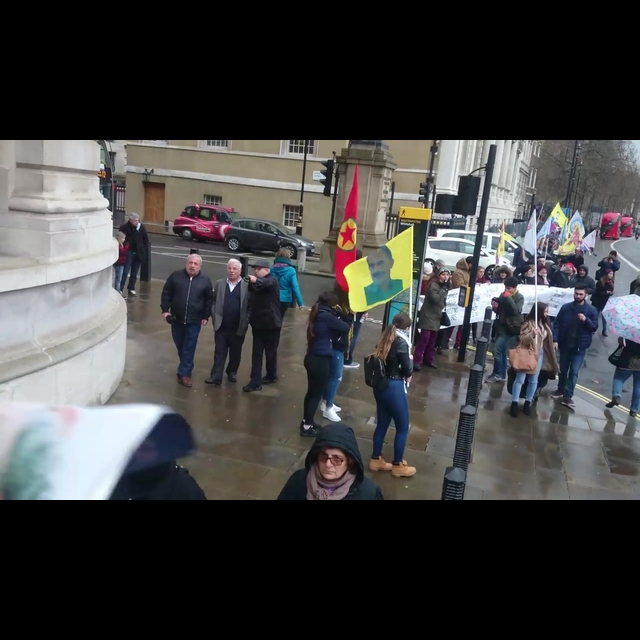PKK: (335, 214, 362, 255)
